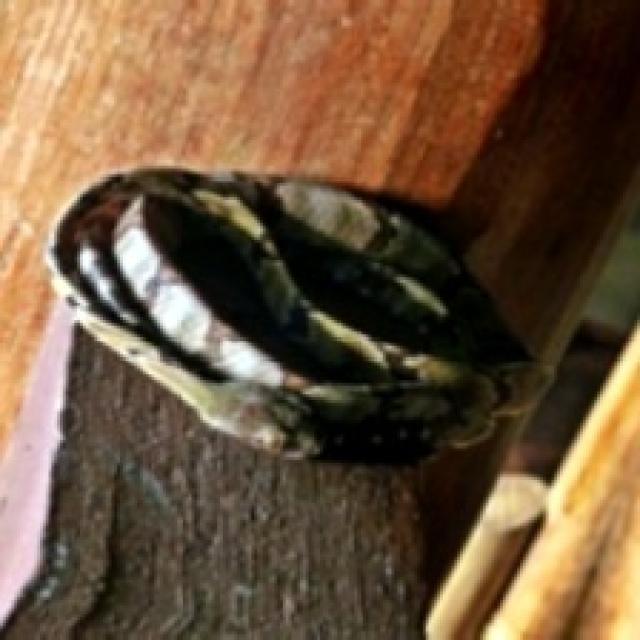dog-toothed cat snake: (51, 169, 526, 457)
